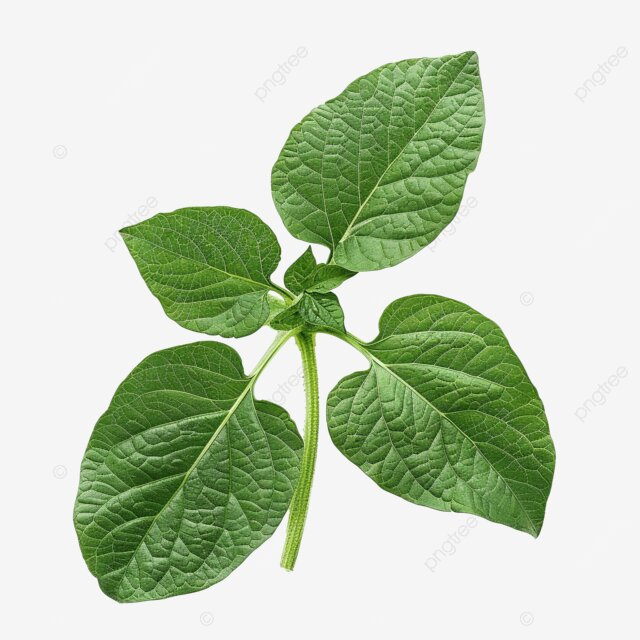potato_leaf: (74, 337, 310, 602), (327, 293, 558, 539), (266, 52, 489, 275), (114, 203, 286, 337), (299, 289, 349, 337)
potato_plant: (63, 47, 563, 603)
